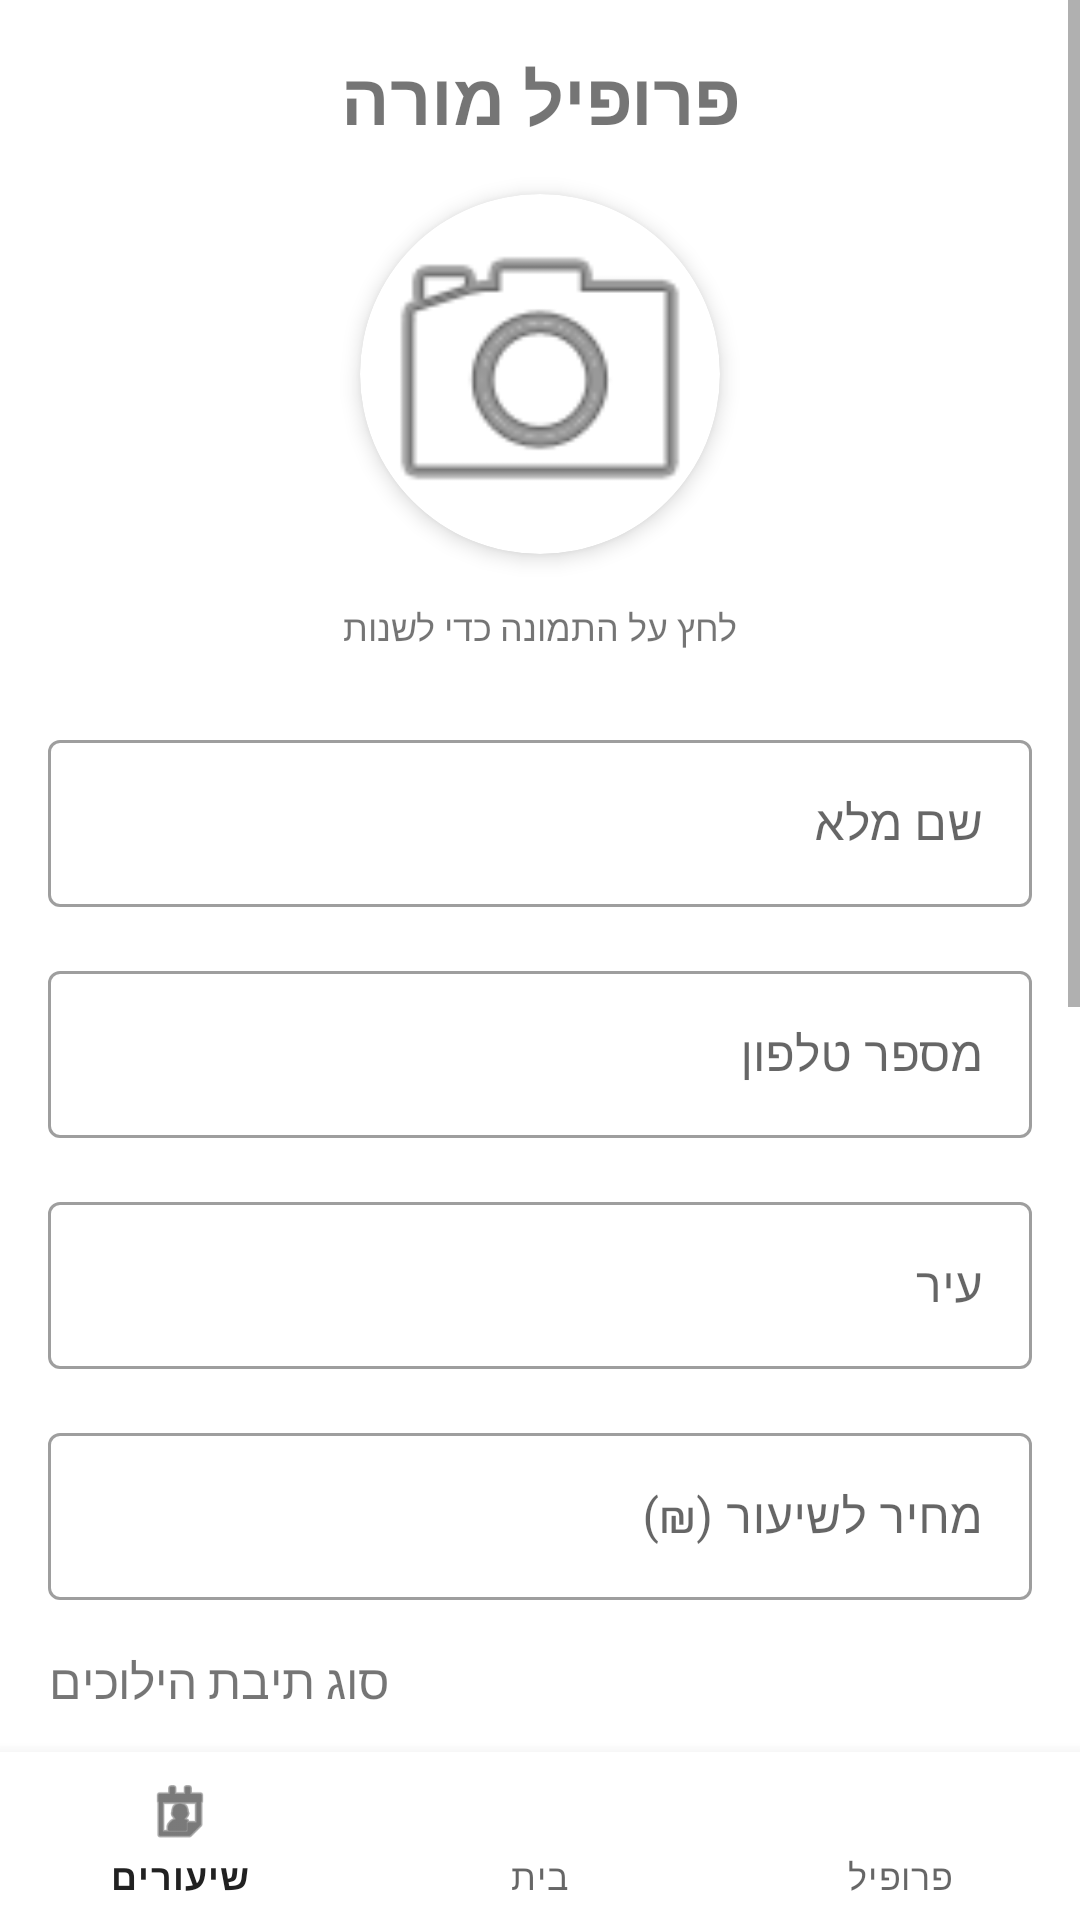

Named icons in this screenshot (1080 × 1920) and their bounding boxes, [x1=x1, y1=y1, x2=x2, y2=y2]:
תמונת פרופיל: [x1=361, y1=257, x2=720, y2=554]
